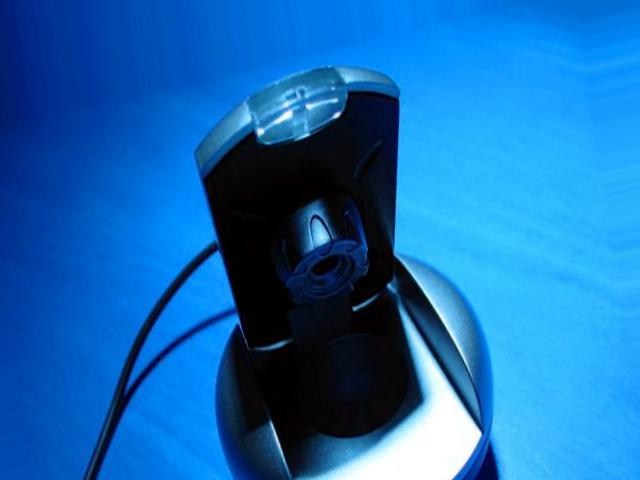webcam: (189, 57, 425, 361)
